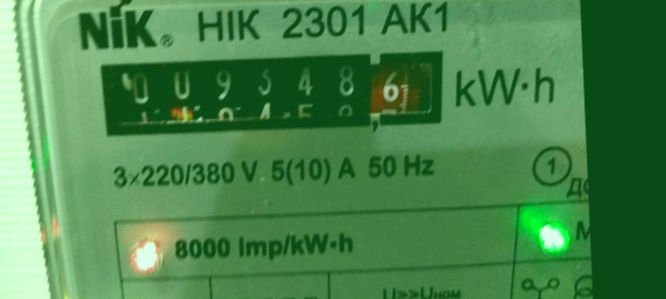0: (169, 65, 191, 102), (128, 69, 149, 105)
3: (251, 63, 274, 96)
4: (291, 61, 313, 99)
6: (378, 67, 402, 102)
8: (334, 61, 355, 96)
9: (212, 65, 231, 99)
screen: (75, 34, 464, 152)
